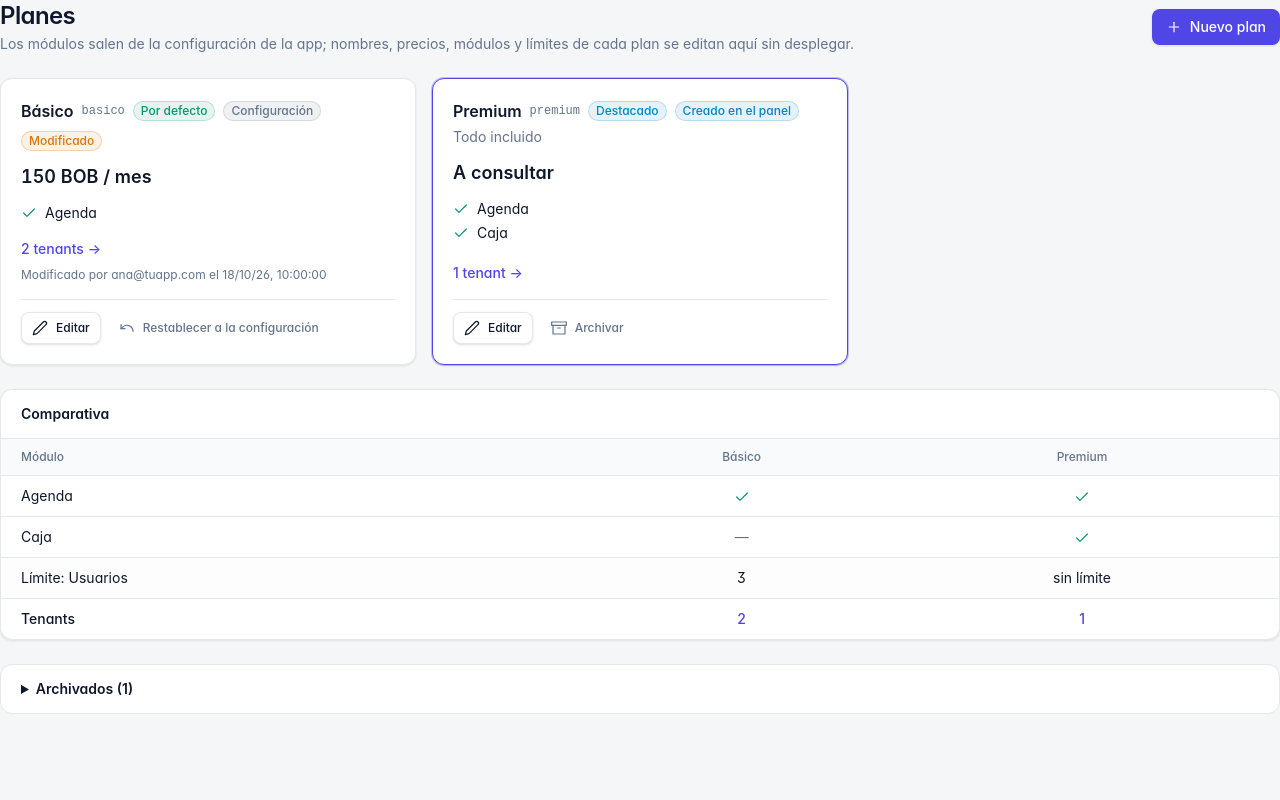
Test: plans page (editable) › confirms reset and shows a clear 409 when archiving
This screenshot has width=1280, height=800.
Click the button "Restablecer a la configuración" at (219, 328), box [109,312,329,344]
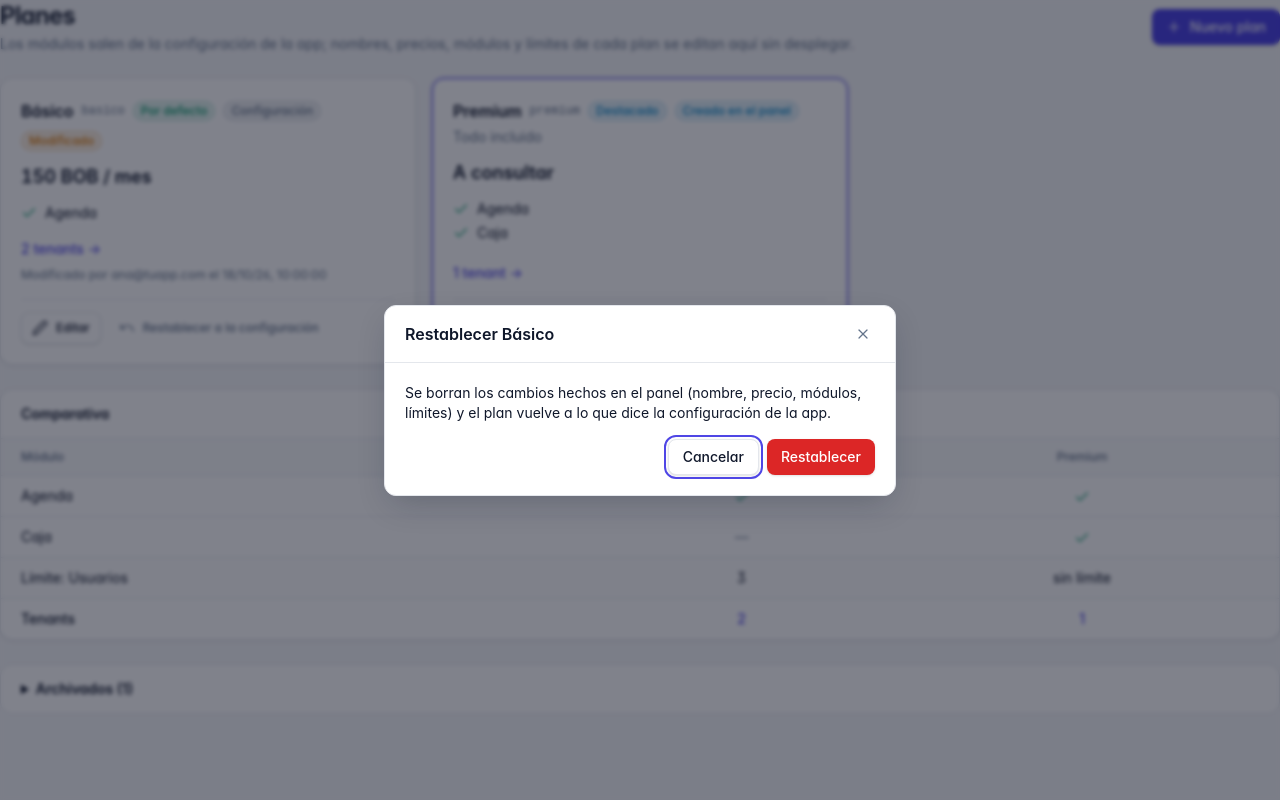
Click the button "Restablecer" at (821, 456), box [767,438,875,474]
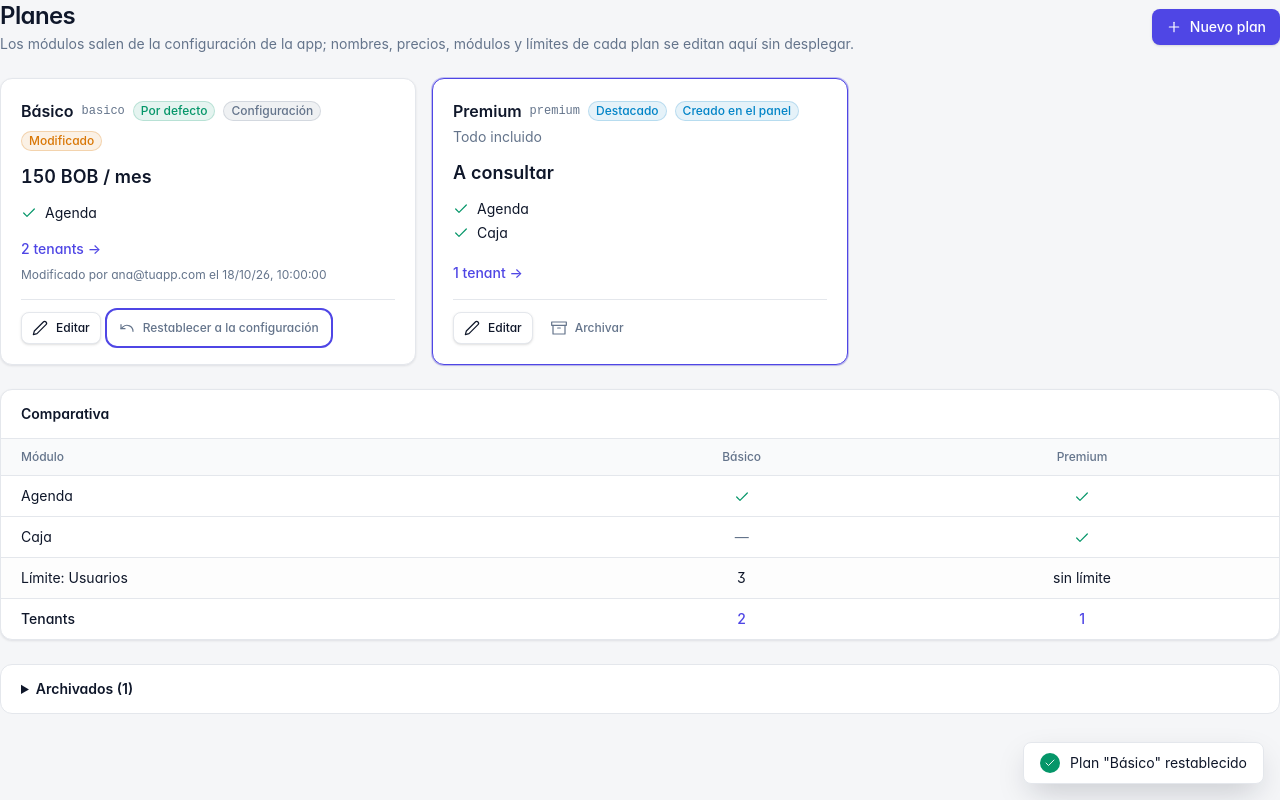
Click the button "Archivar" at (587, 328), box [541,312,634,344]
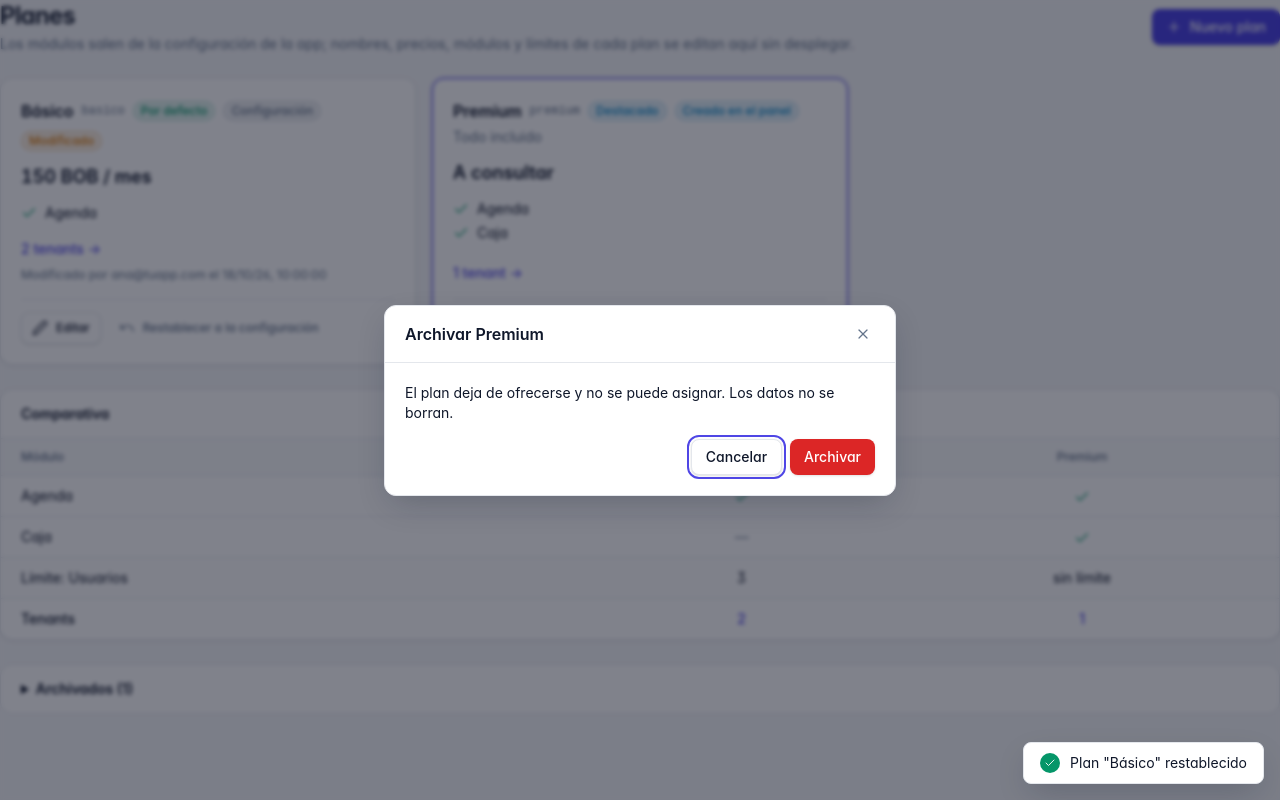
Click the button "Archivar" at (832, 456), box [790,438,875,474]
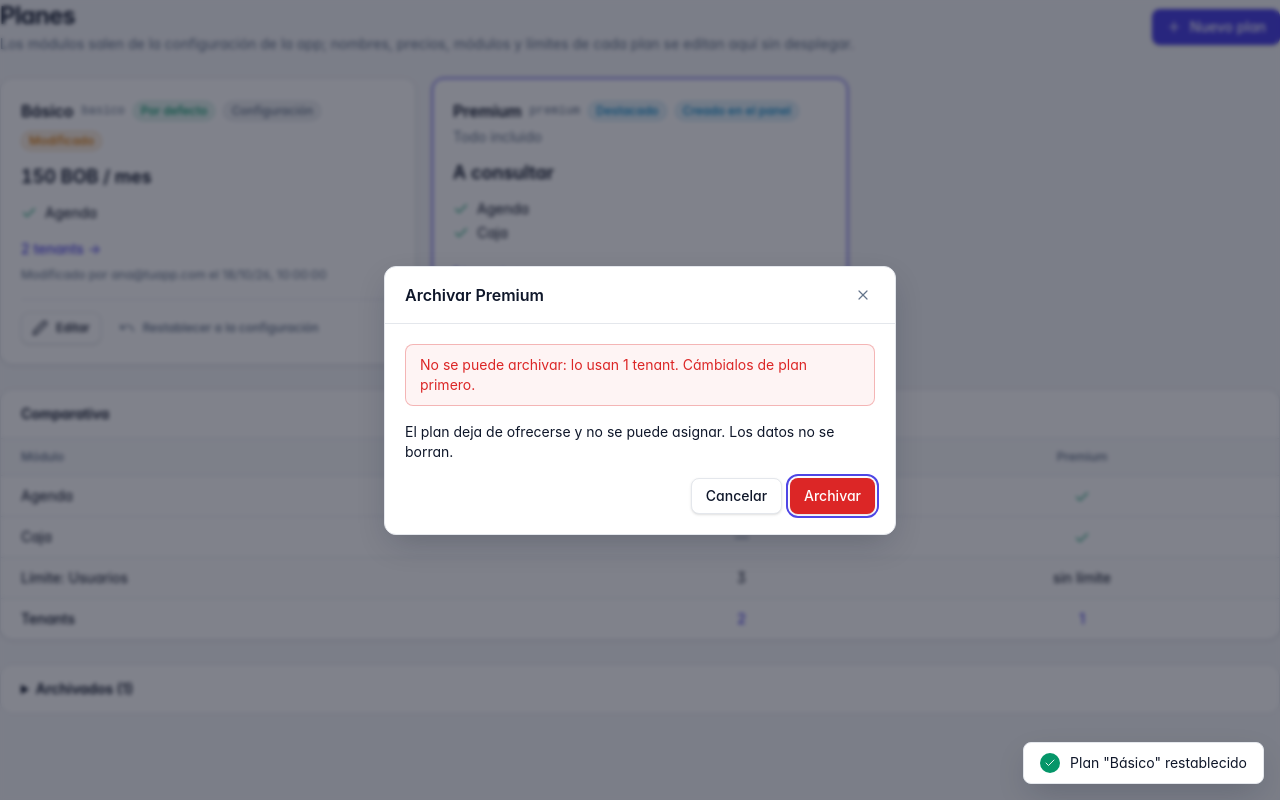
Check: the message "No se puede archivar: lo usan 1 tenant. Cámbialos de plan primero." is shown, box [405,344,875,406]
